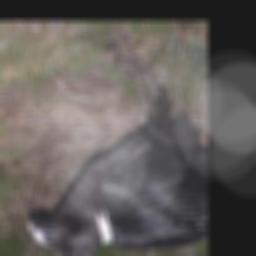Crow: (27, 29, 207, 256)
